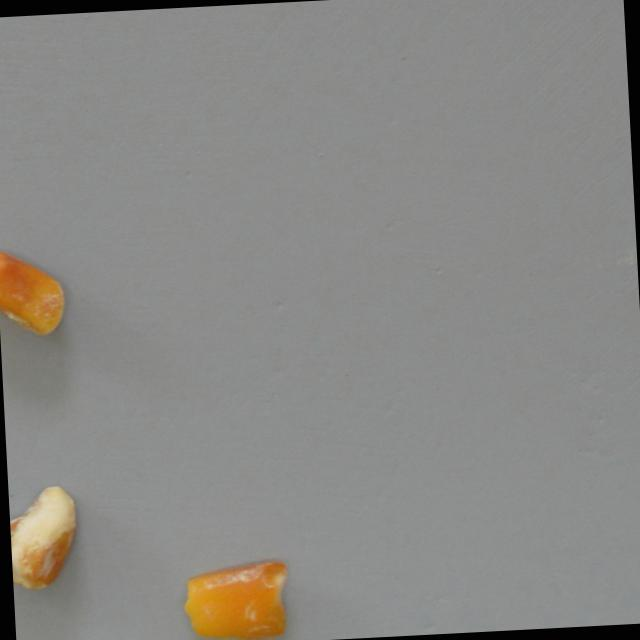dañado: (8, 485, 82, 592), (0, 247, 65, 337)
pelicula: (180, 552, 295, 640)
